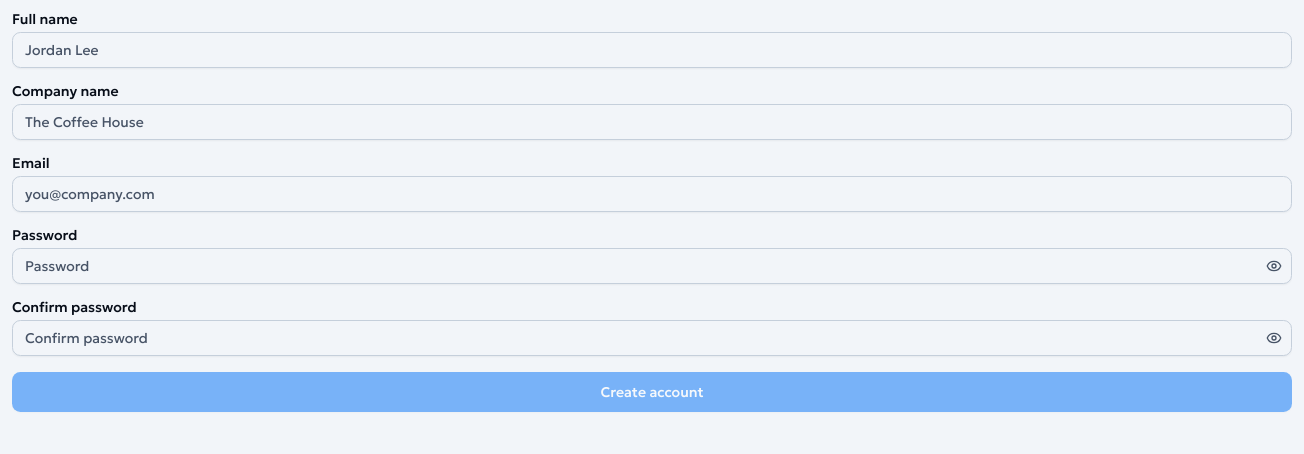
Test: CreateAccountForm › flags a confirm-password mismatch against the password field
Type "Password1!" into the password field labelled "Password".
click(652, 266); type("Password1!")  # box [12, 248, 1292, 284]
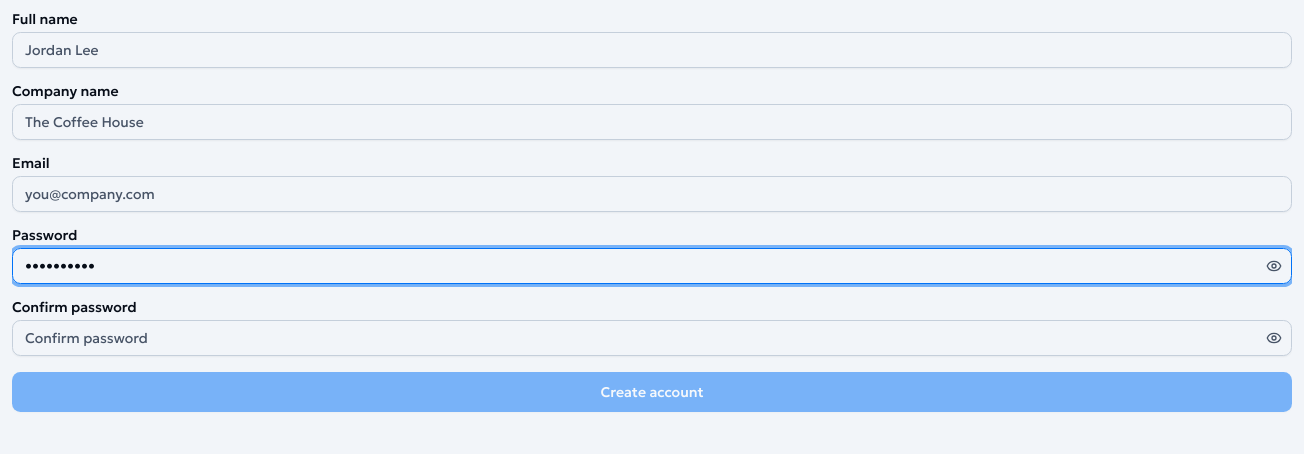
Type "Password2!" into the password field labelled "Confirm password".
click(652, 338); type("Password2!")  # box [12, 320, 1292, 356]
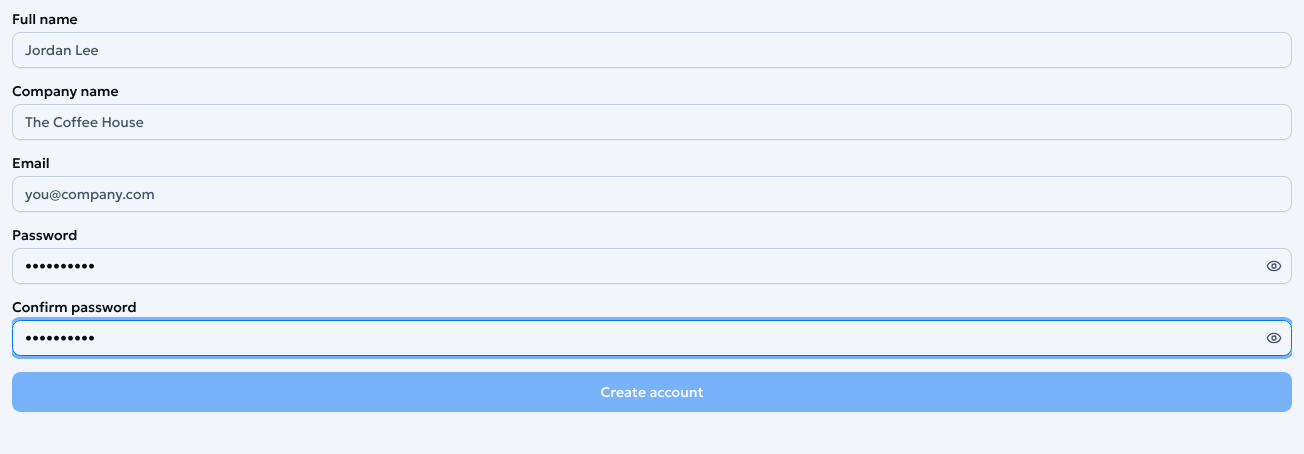
Press Tab
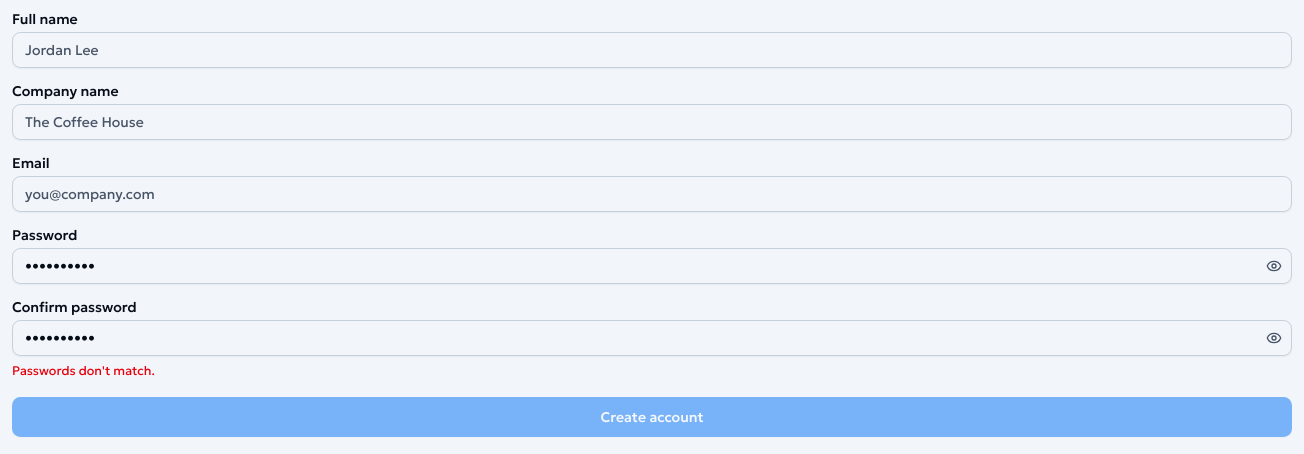
Expected: the button "Create account" is disabled, [12, 397, 1292, 437]
Now the text "Passwords don't match." is shown, box [12, 363, 155, 378]
